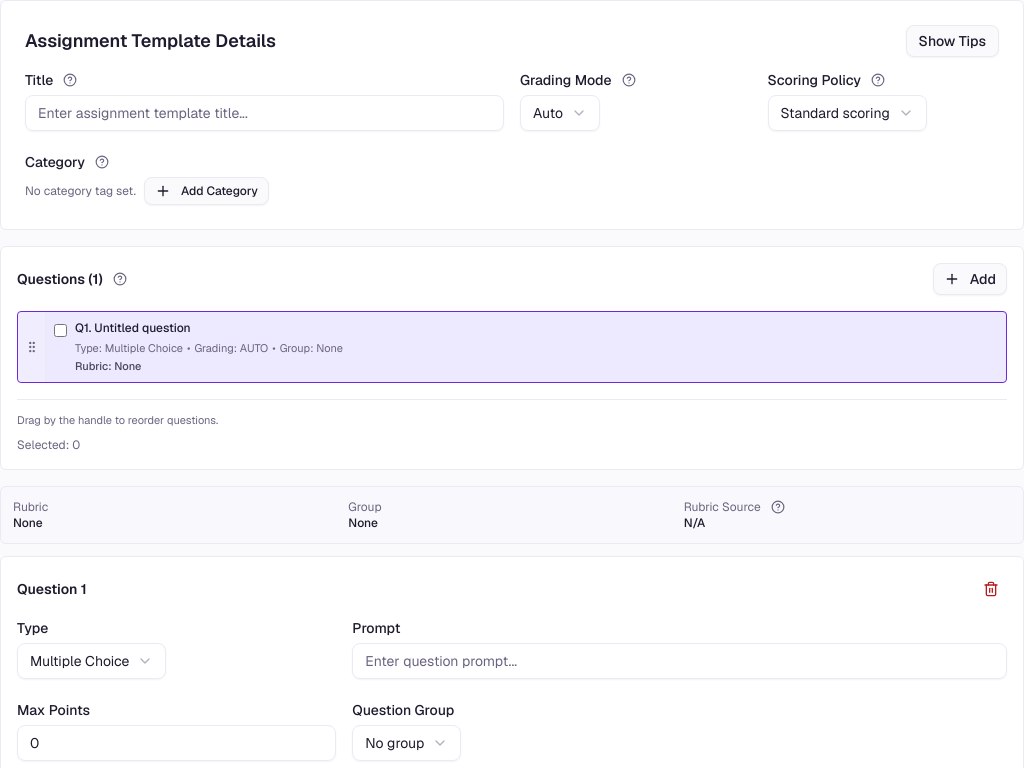
AssignmentTemplateBuilderForm › opens category composer when Add Category is clicked
Click the button "Add Category" at (206, 191), box 144,177 -> 269,205
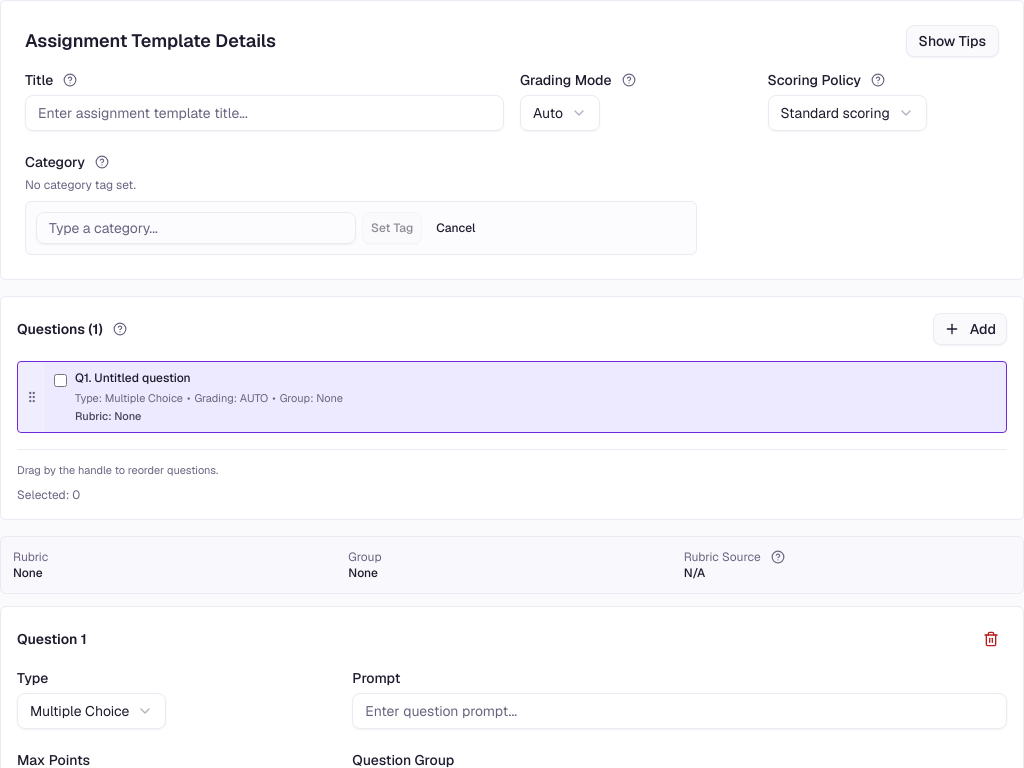
Expected: the field with placeholder "Type a category..." is shown, 36,212 -> 356,244
Expected: the button "Set Tag" is shown, 362,212 -> 422,244
